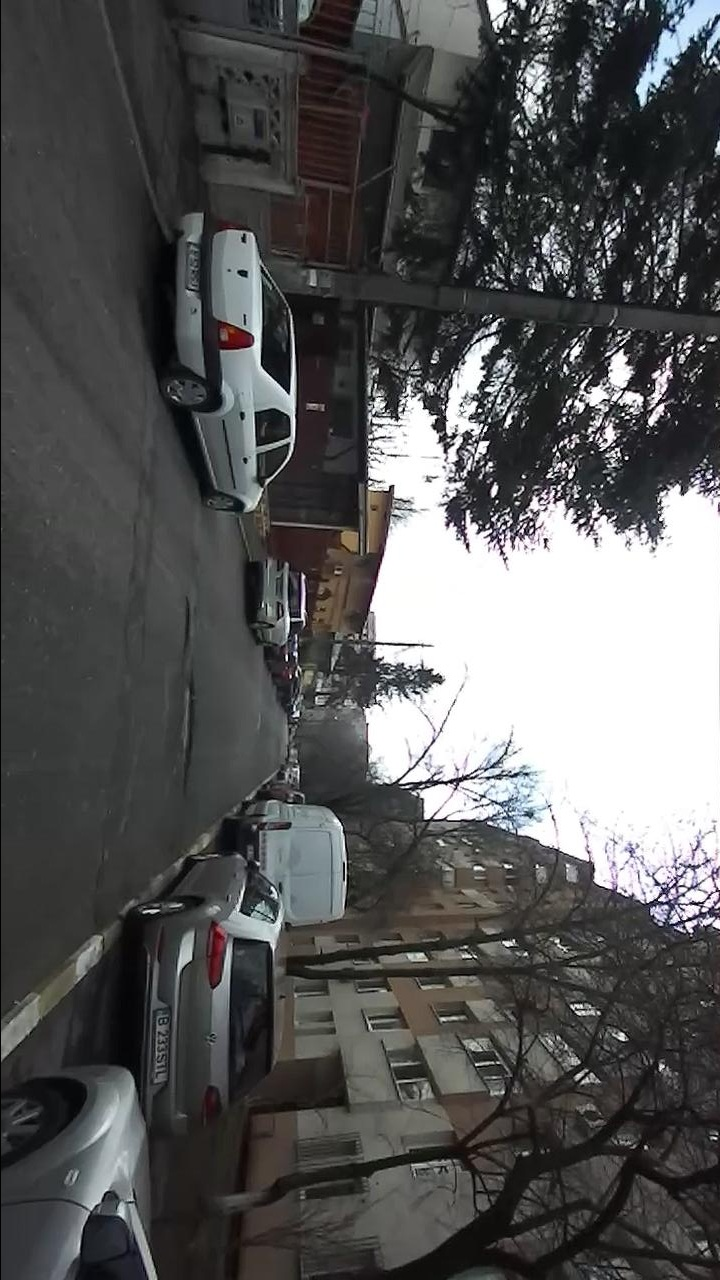pothole: (175, 669, 196, 797), (180, 594, 194, 658)
